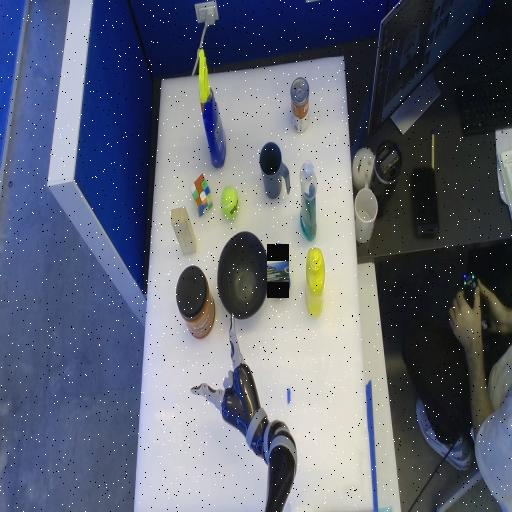bowl: (218, 233, 268, 318)
cleanser: (300, 162, 316, 241)
coffee_can: (175, 284, 214, 322)
jaco: (191, 316, 260, 437)
meat_can: (267, 261, 289, 282)
mug: (259, 143, 289, 199)
mustard_bottle: (305, 249, 324, 317)
rubik: (190, 185, 212, 207)
soup_can: (290, 78, 308, 133)
tennis_ball: (221, 195, 238, 212)
windex: (198, 49, 225, 167)
wooden_block: (171, 208, 195, 254)
workspace: (135, 57, 372, 509)
